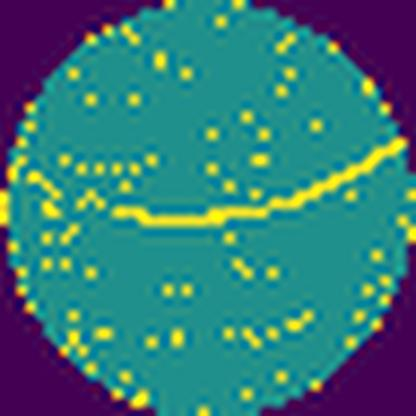Scratch: (107, 136, 408, 233)
